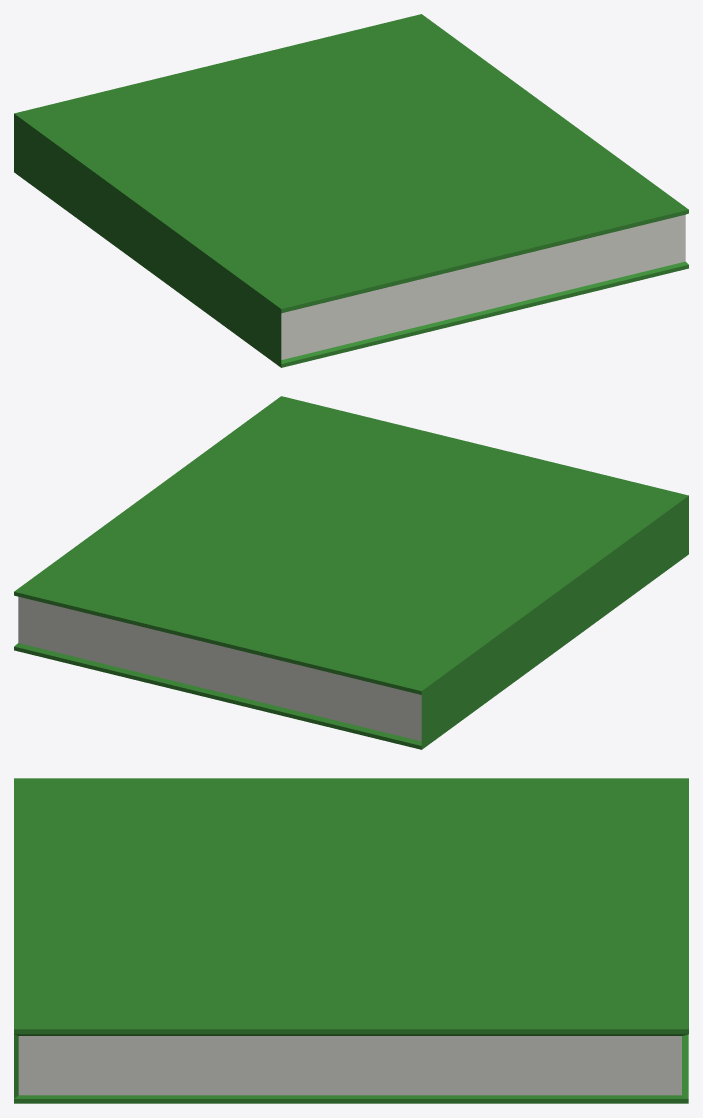
File: green book.fbx
The picture shows the model from 3 angles, top to bottom: view 1: azimuth 30°, elevation 25°; view 2: azimuth 150°, elevation 25°; view 3: azimuth 270°, elevation 25°; orthographic projection. The views are drawn at different scales.
Visible parts, largest first — view 1: book; view 2: book; view 3: book.
Part boxes in pixels (left/top/right/bottom): book: left=14, top=14, right=688, bottom=367; book: left=14, top=396, right=688, bottom=749; book: left=14, top=778, right=688, bottom=1103.
Bounding box in the file's own units: 179 × 24.7 × 203.
